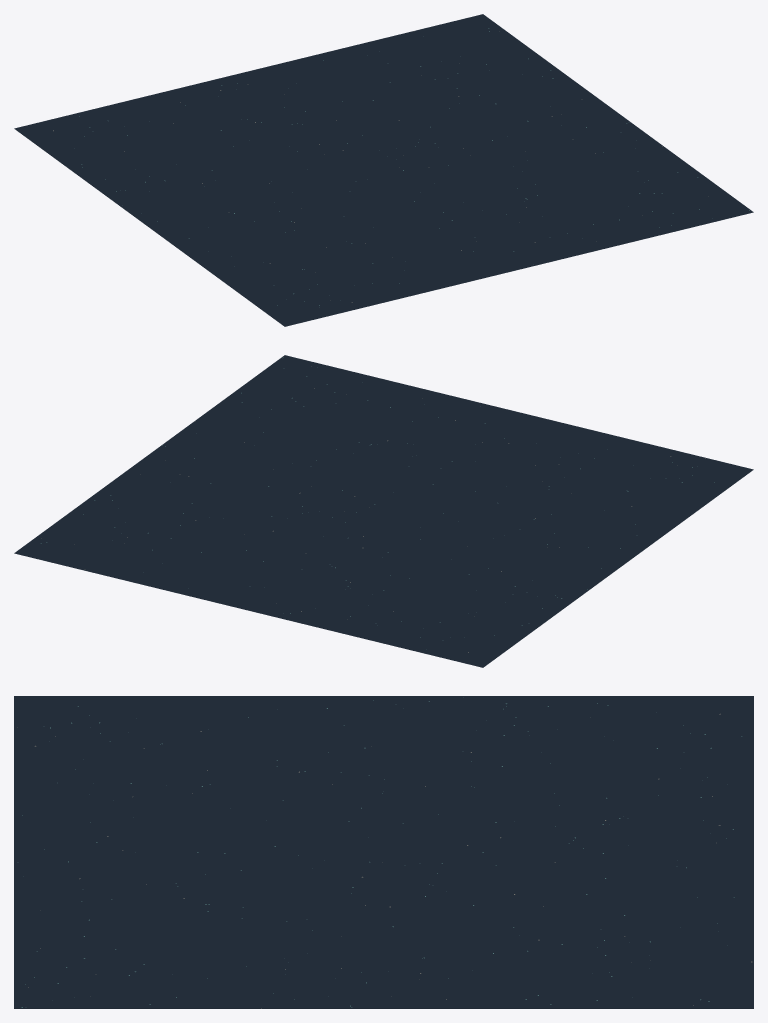
File: space_sea.glb
3 views of the same model, one above another, from view 1: azimuth 30°, elevation 25°; view 2: azimuth 150°, elevation 25°; view 3: azimuth 270°, elevation 25° (orthographic). The views are drawn at different scales.
Visible parts, largest first — view 1: FixedDetails; view 2: FixedDetails; view 3: FixedDetails.
Part boxes in pixels (box(x1,y1,x2,y2)): FixedDetails: box(14, 14, 753, 326); FixedDetails: box(14, 355, 753, 667); FixedDetails: box(14, 696, 753, 1008).
Size of the model in its own units: 12 by 0.003 by 12.
